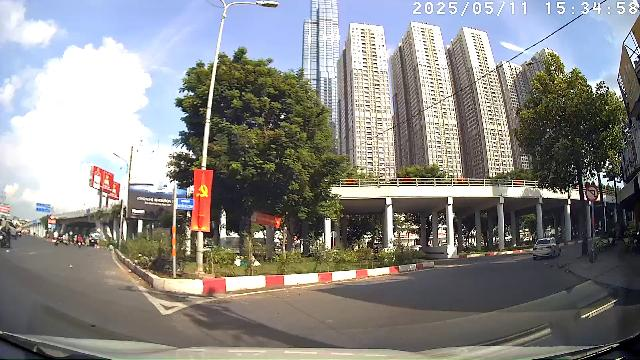123a-cam-re-trai: (586, 185, 598, 201)
